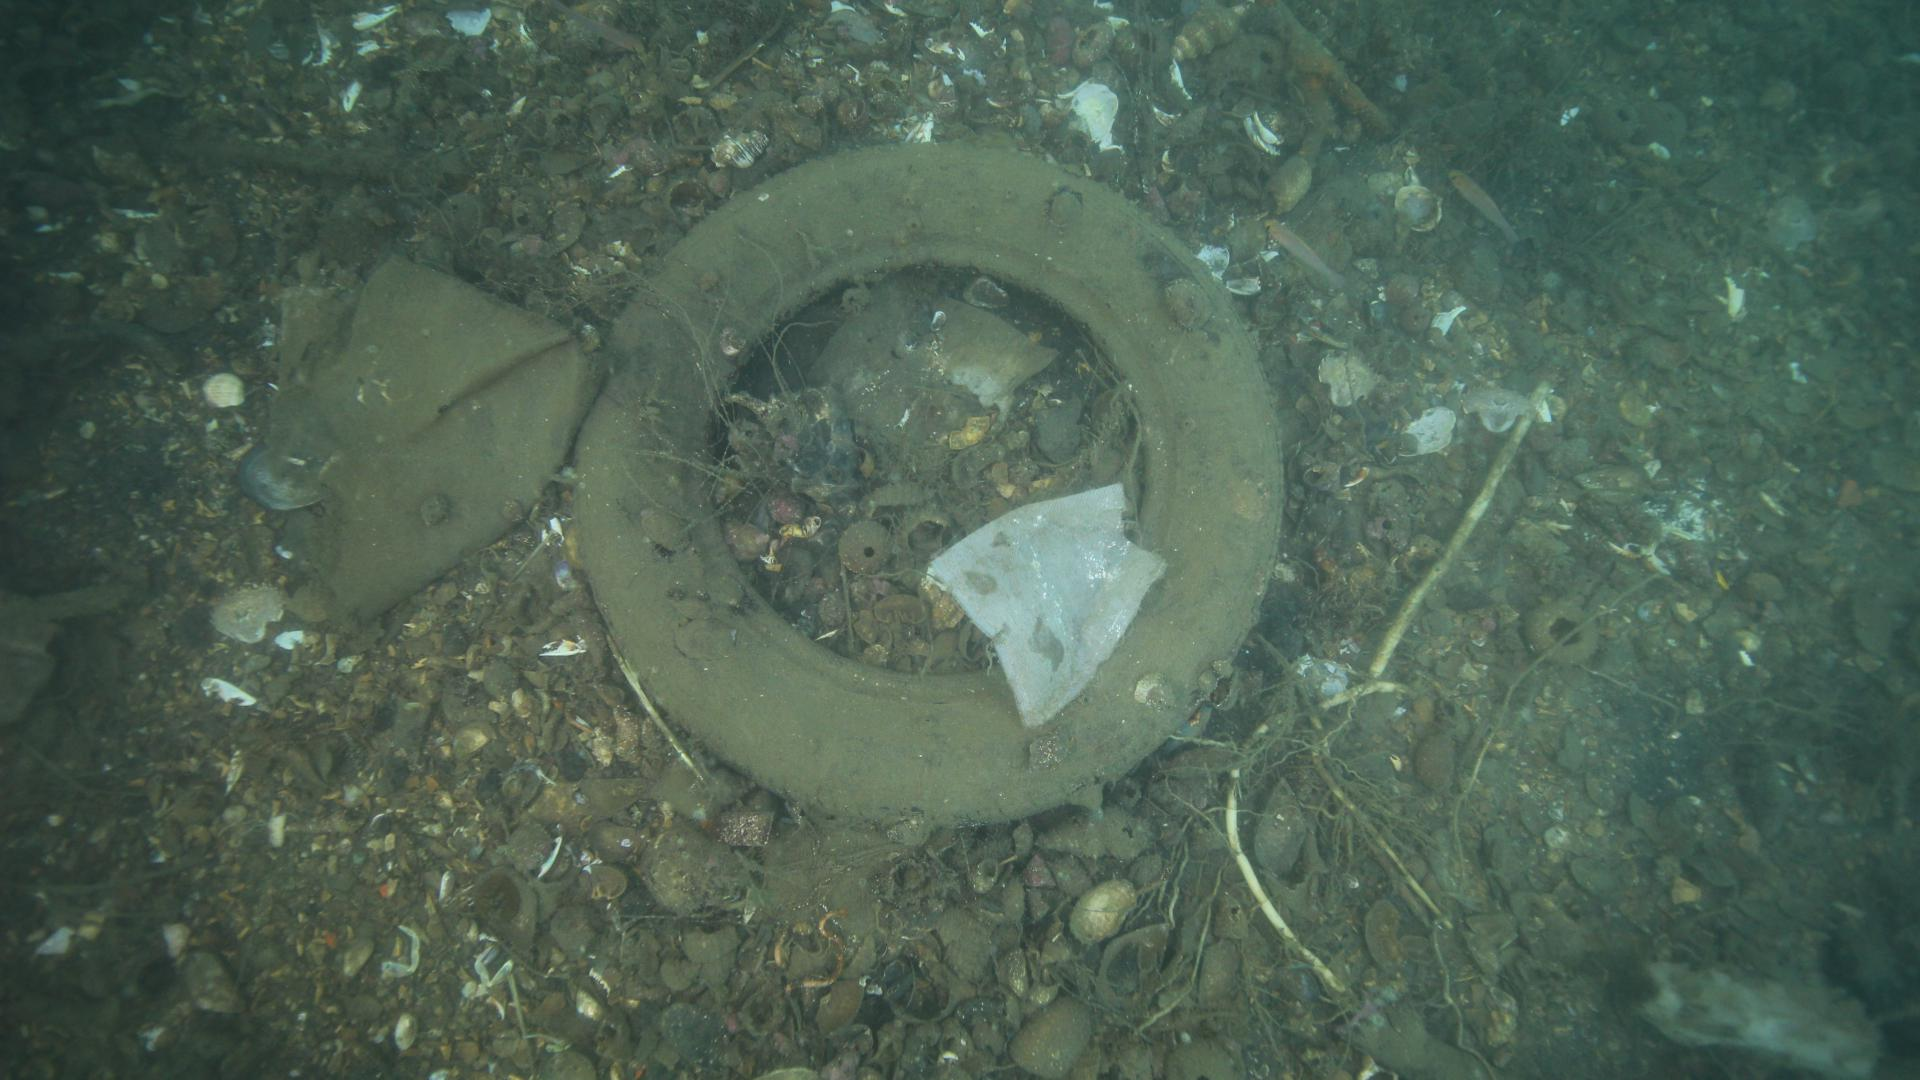tire: (575, 138, 1290, 831)
